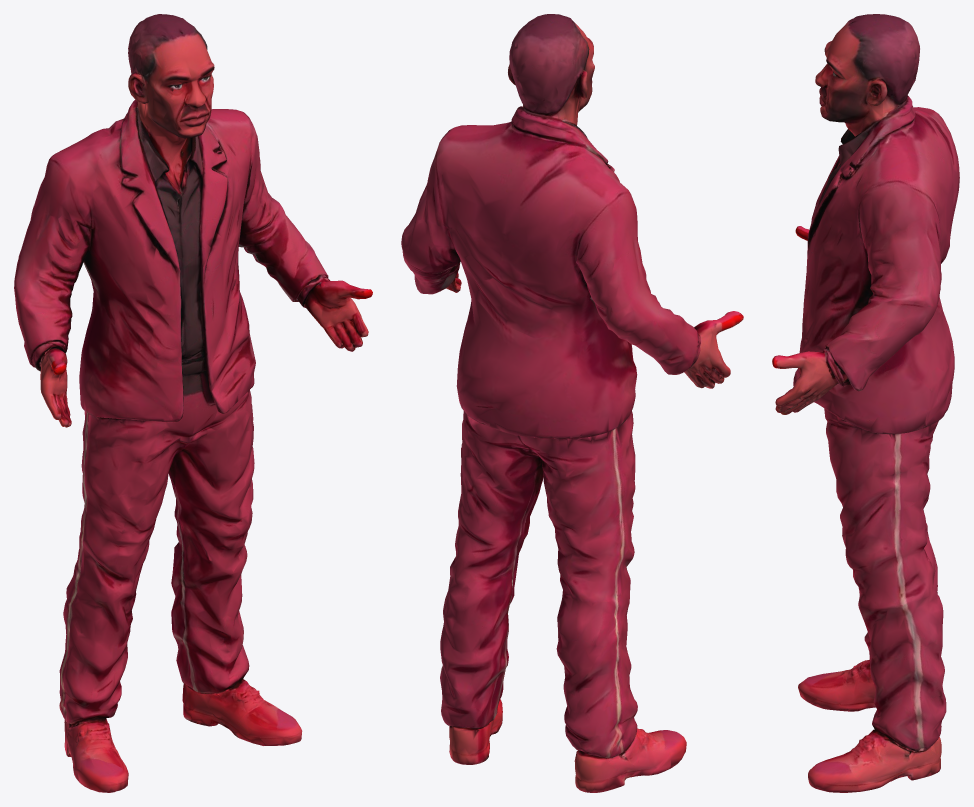
The model's file is mrblack.glb.
3 views of the same model, side by side, from view 1: azimuth 30°, elevation 25°; view 2: azimuth 150°, elevation 25°; view 3: azimuth 270°, elevation 25° (orthographic).
Parts seen in each view (by area): view 1: Mesh_0.001; view 2: Mesh_0.001; view 3: Mesh_0.001.
Boxes of the visible parts, x1,y1,x2,y2 form: Mesh_0.001: (14, 14, 372, 792); Mesh_0.001: (401, 14, 743, 792); Mesh_0.001: (772, 14, 959, 792).
Bounding box in the file's own units: 0.8084 × 1.83 × 0.4293.
1 material, 1 textured.
